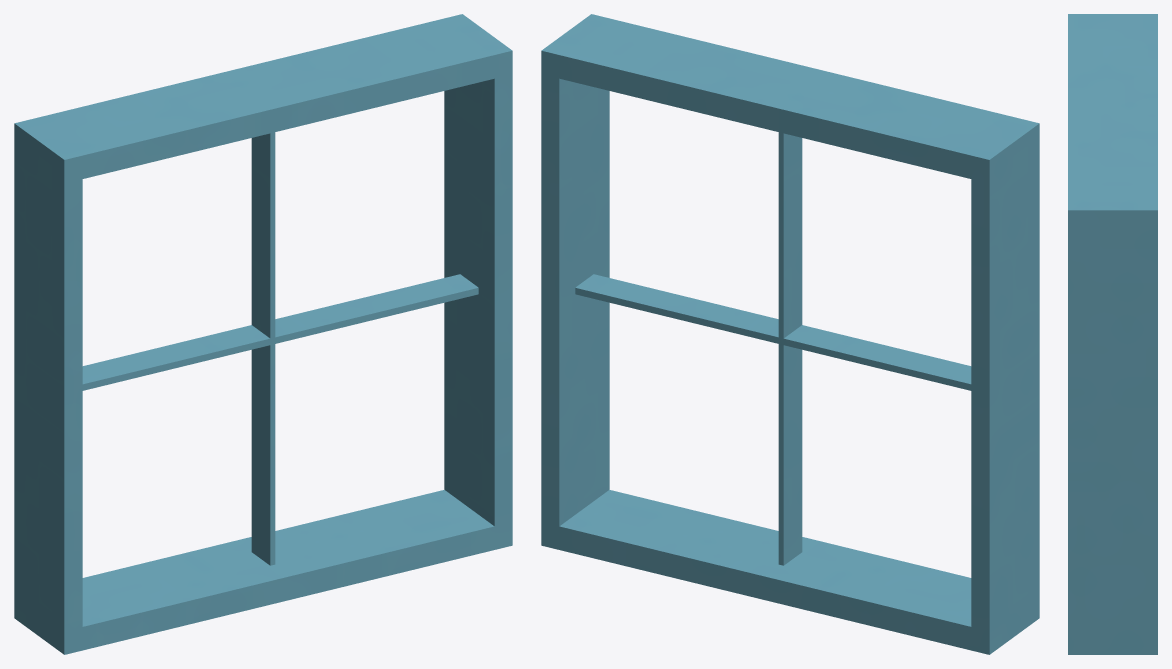
Rendered from Window_04.fbx.
3 views of the same model, side by side, from view 1: azimuth 30°, elevation 25°; view 2: azimuth 150°, elevation 25°; view 3: azimuth 270°, elevation 25° (orthographic). The views are drawn at different scales.
Parts seen in each view (by area): view 1: Window_04; view 2: Window_04; view 3: Window_04.
Part boxes in pixels (x1,y1,x2,y2): Window_04: [14, 14, 512, 654]; Window_04: [541, 14, 1039, 654]; Window_04: [1068, 14, 1157, 654].
Bounding box in the file's own units: 1 × 1.06 × 0.1938.
